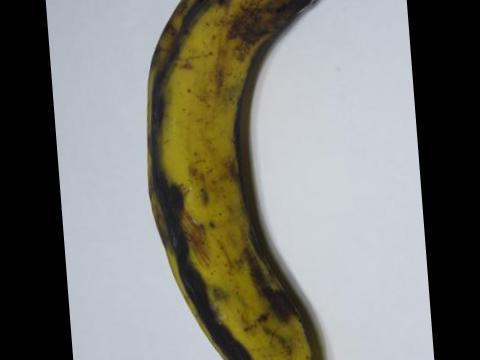overripe: (116, 0, 371, 359)
